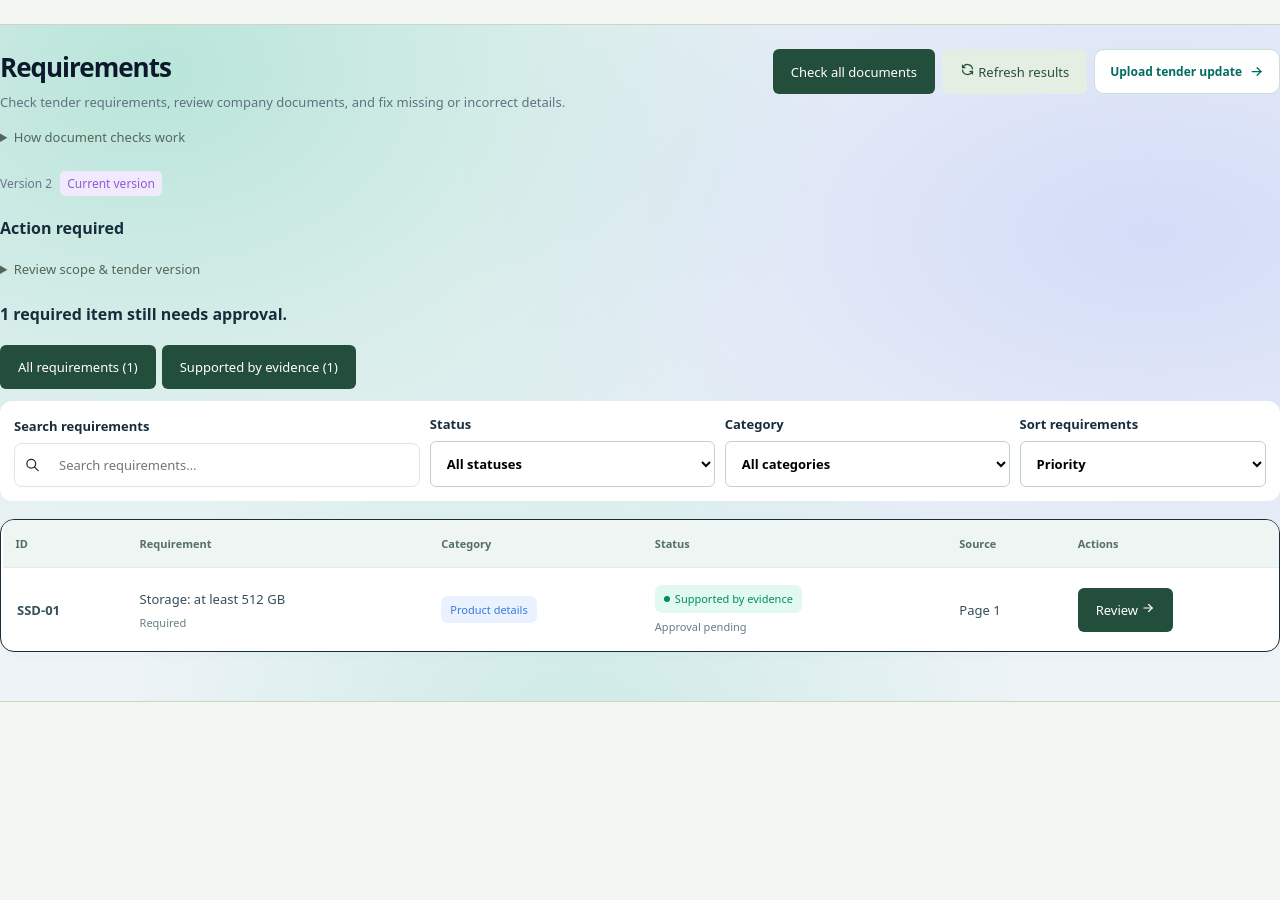
Scenario: supplier dashboard › shows supported evidence separately from pending approval while readiness stays blocked
expect the text "Approval pending" is shown: met, box [655, 619, 746, 634]
expect the heading "Action required" is shown: met, box [0, 217, 124, 239]
Step 1. Click the button "Supported by evidence (1)" → (259, 367), box [162, 345, 356, 389]
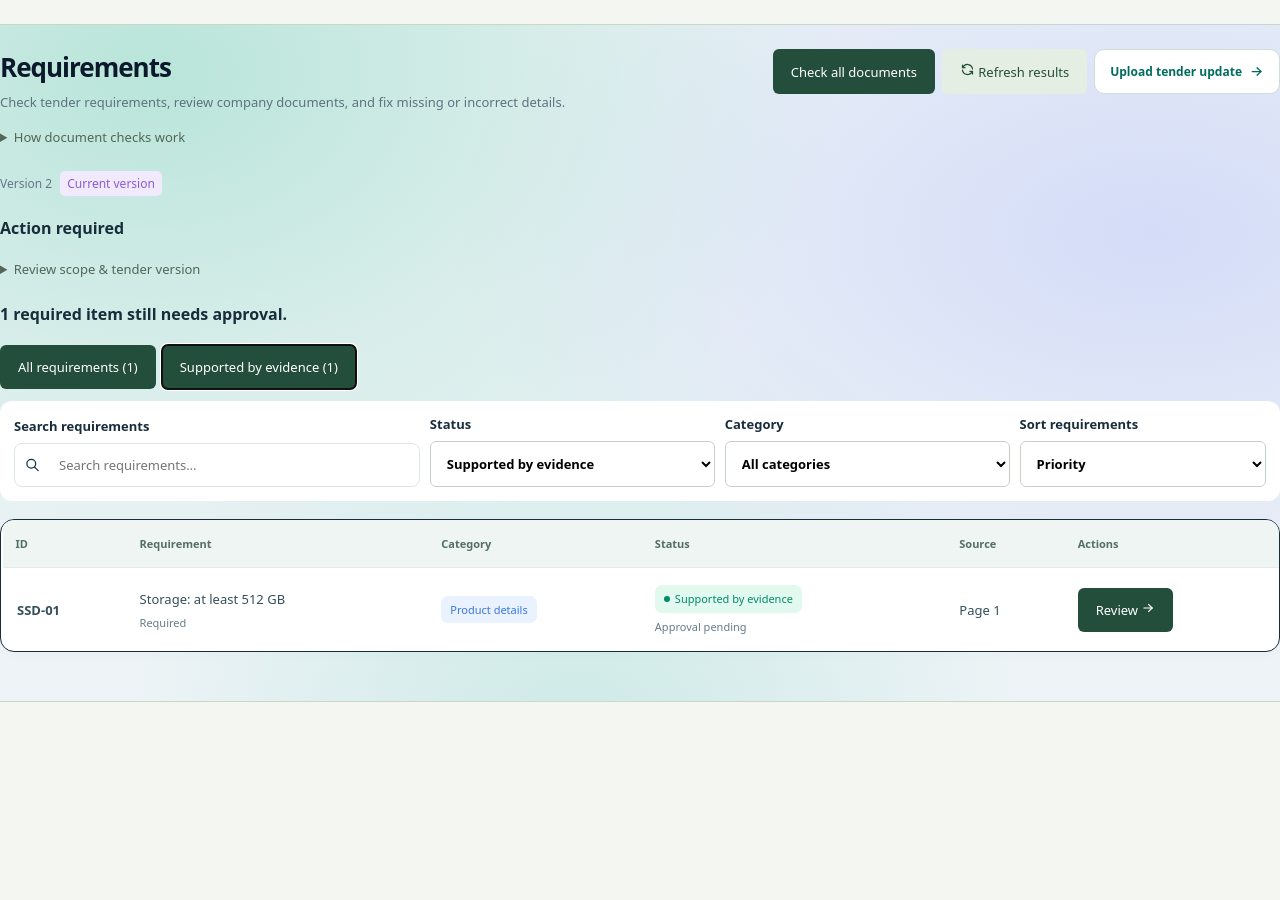
Step 2. Click the button with aria-label "Review requirement SSD-01" → (1126, 610), box [1078, 588, 1174, 632]
(page scrolled)
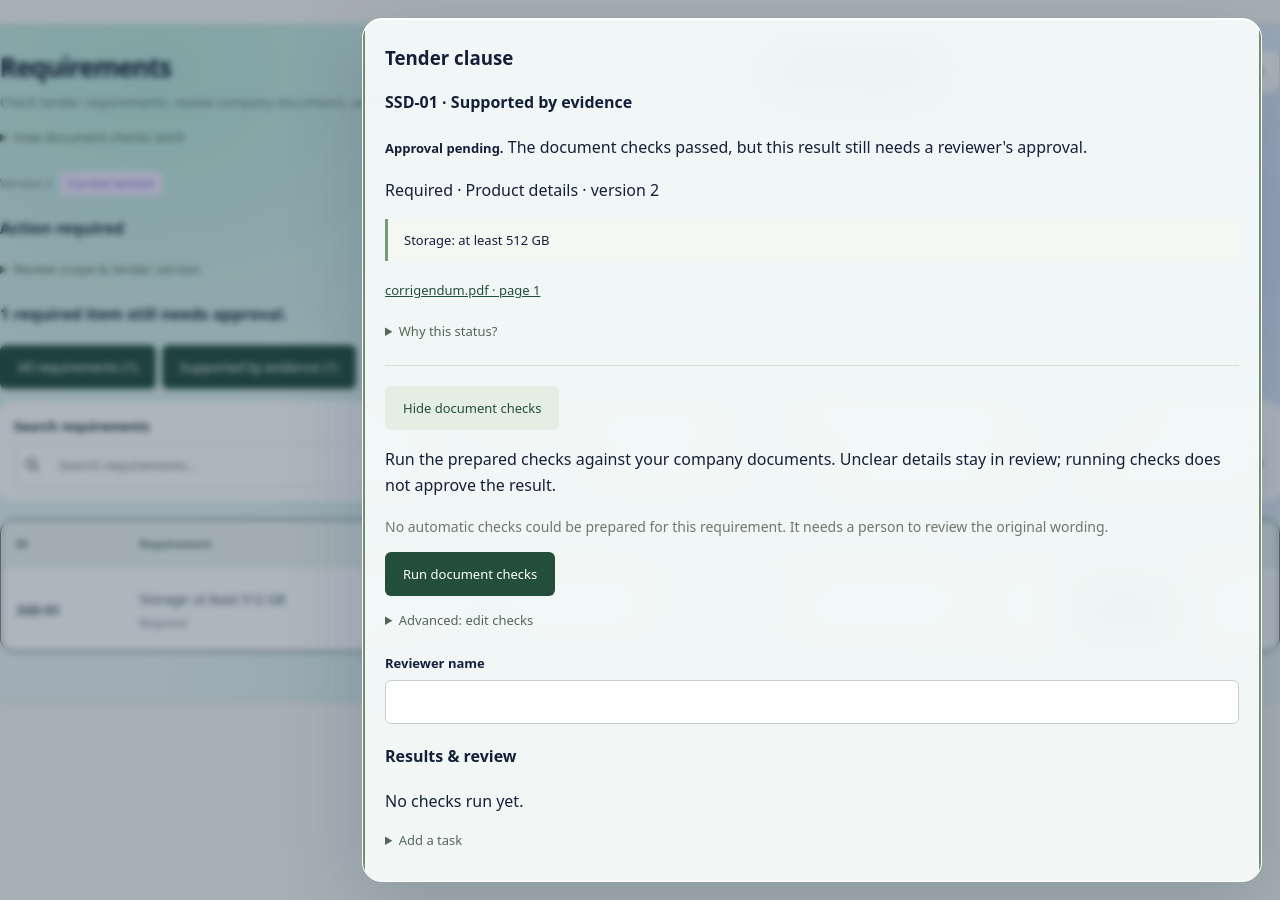
expect the text "Approval pending." is shown: met, box [385, 139, 504, 157]
expect the element named "Requirement detail" shows "The document checks passed, but this result still needs a reviewer's approval.": met, box [504, 136, 1087, 158]
